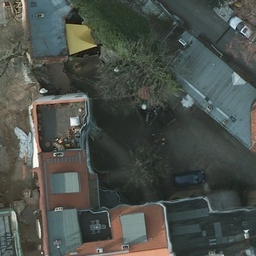car: (230, 14, 255, 39), (174, 169, 207, 185)
